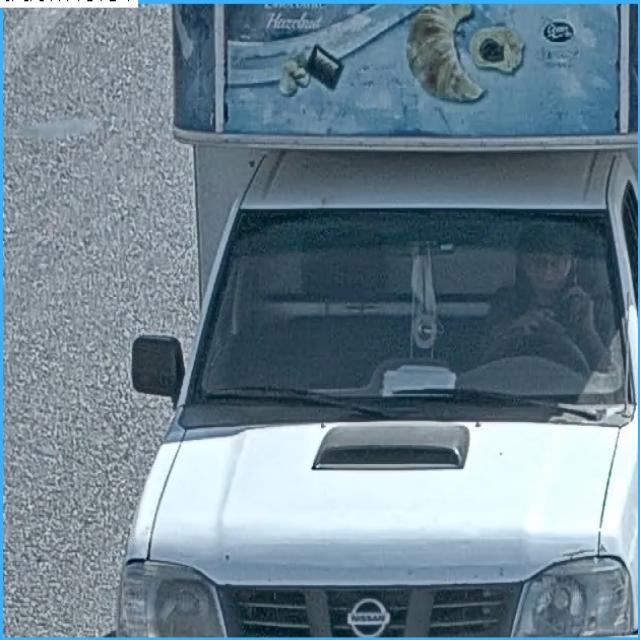windshield: (192, 216, 637, 416)
